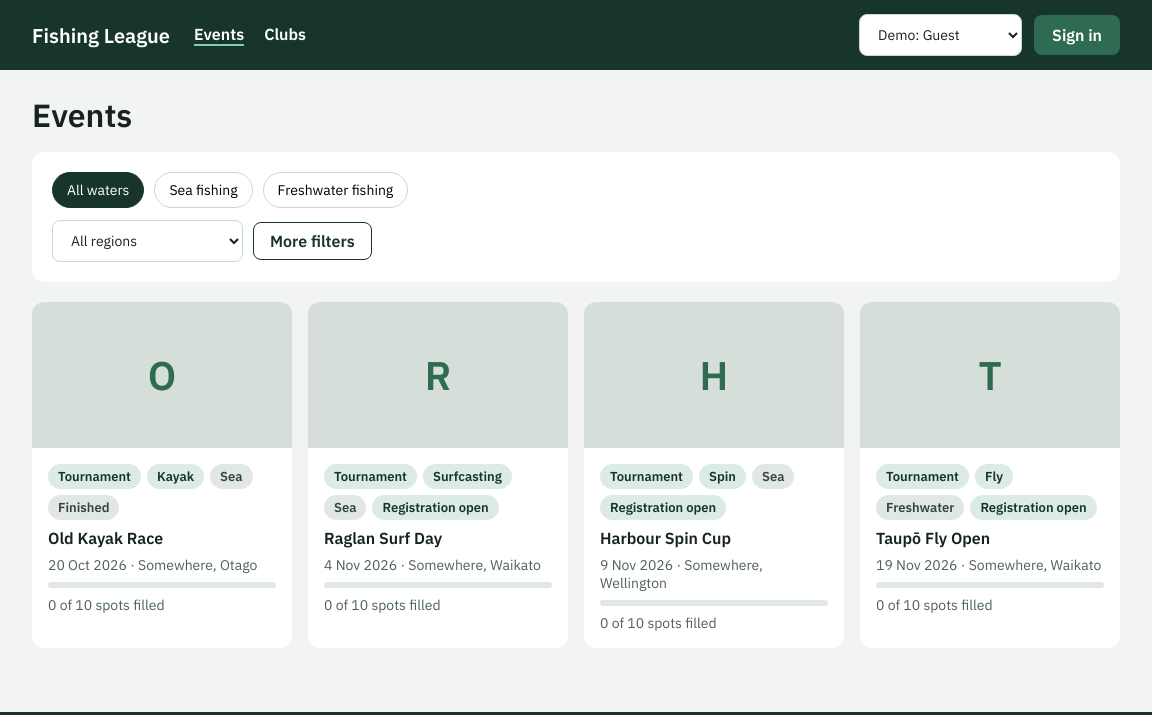
Test: advanced search › opens and closes with More filters / Fewer filters
The width and height of the screenshot is (1152, 715).
Expected: the text "Taupō Fly Open" is shown, 876,528 -> 990,548
Click the button "More filters" at (312, 241), box 253,222 -> 372,260
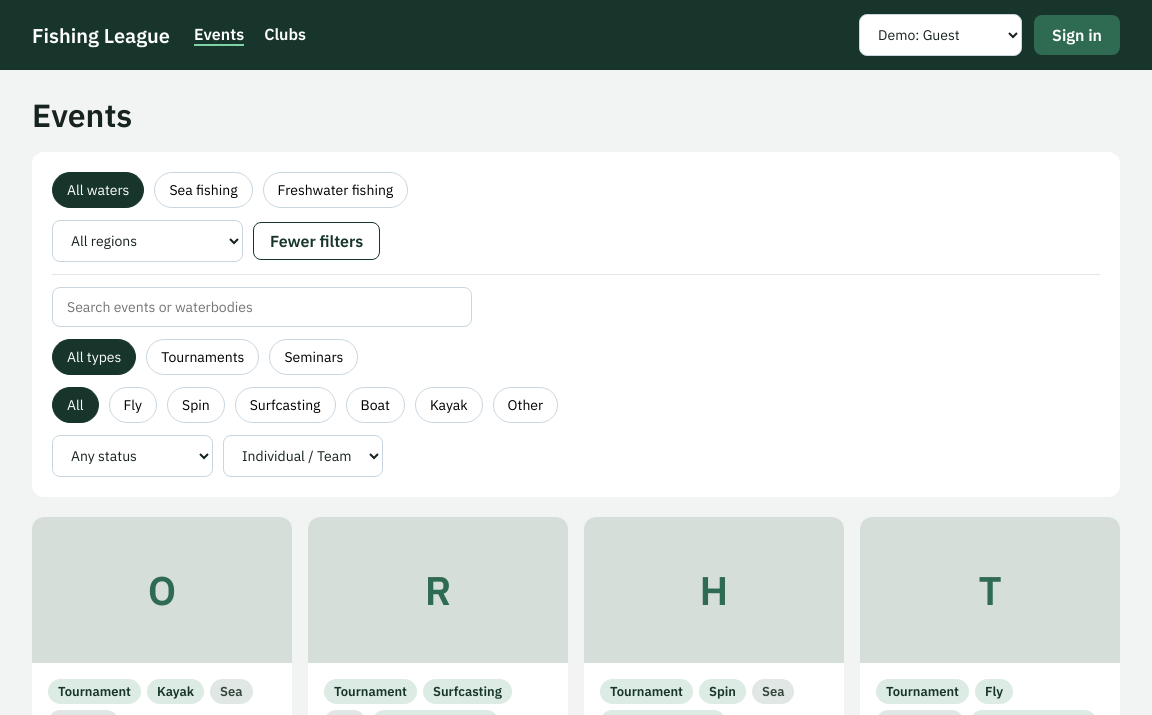
Expected: the button "Fewer filters" is expanded
Expected: the field labelled "Search" is shown, 52,287 -> 472,327
Expected: the dropdown named "Status" is shown, 52,435 -> 213,477
Click the button "Fewer filters" at (317, 241), box 253,222 -> 380,260
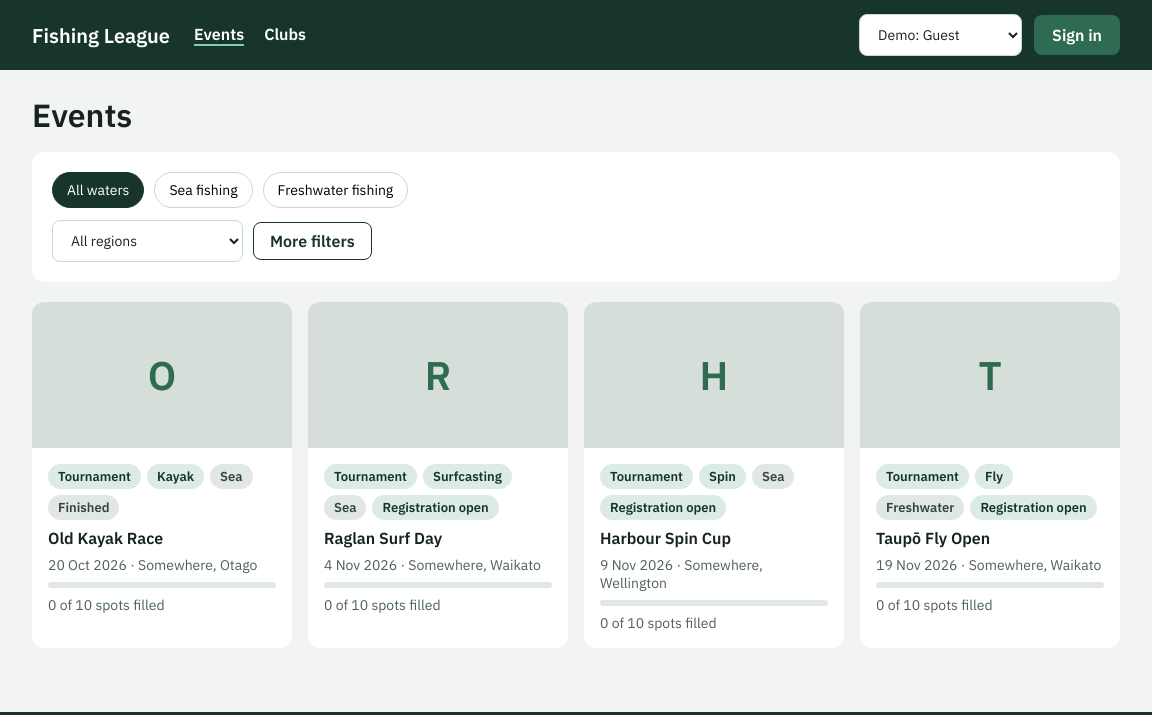
Expected: the field labelled "Search" is gone
